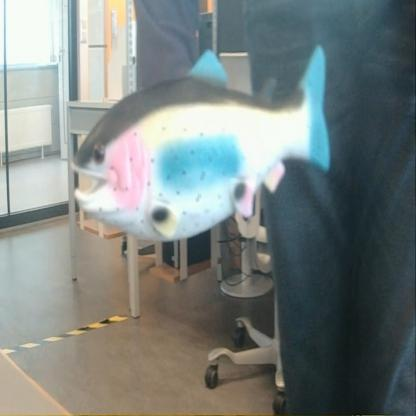rubberfish: (67, 40, 335, 246)
